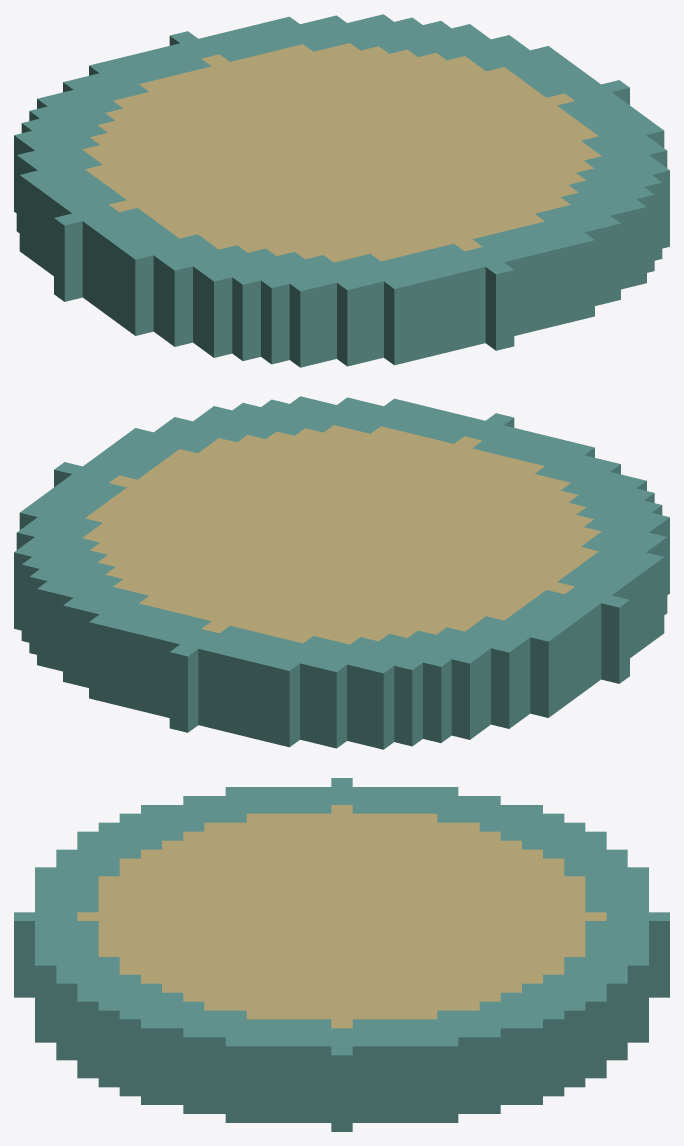
File: collar.glb
3 views of the same model, one above another, from view 1: azimuth 30°, elevation 25°; view 2: azimuth 150°, elevation 25°; view 3: azimuth 270°, elevation 25° (orthographic).
Size of the model in its own units: 31 by 4 by 31.
